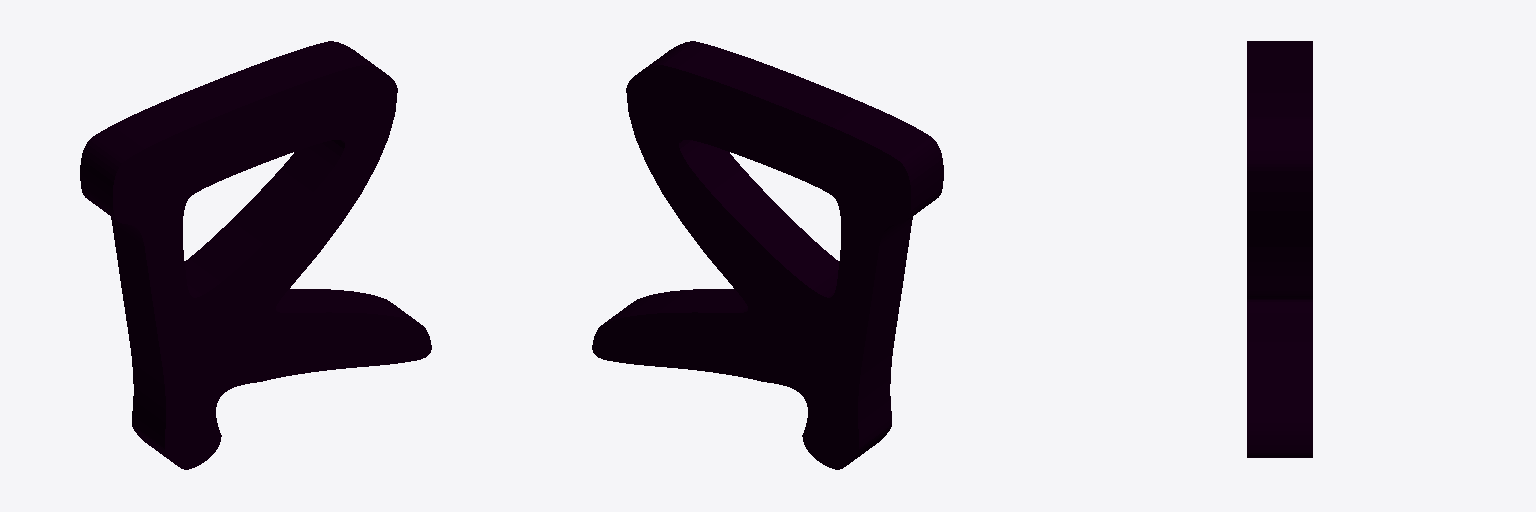
Rendered from rebobj.obj.
3 views of the same model, side by side, from view 1: azimuth 30°, elevation 25°; view 2: azimuth 150°, elevation 25°; view 3: azimuth 270°, elevation 25° (orthographic).
Parts seen in each view (by area): view 1: Text001; view 2: Text001; view 3: Text001.
Boxes of the visible parts, x1=… form: Text001: x1=80, y1=41, x2=431, y2=469; Text001: x1=592, y1=41, x2=943, y2=469; Text001: x1=1247, y1=41, x2=1312, y2=457.
Size of the model in its own units: 8.13 by 8.83 by 1.44.